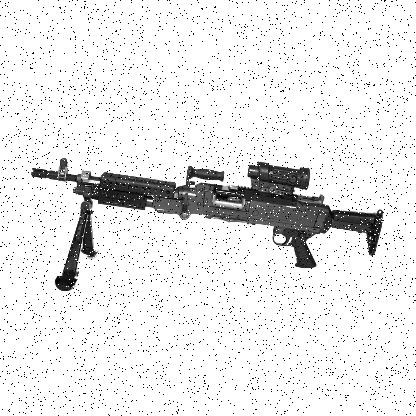gun: (31, 160, 382, 288)
